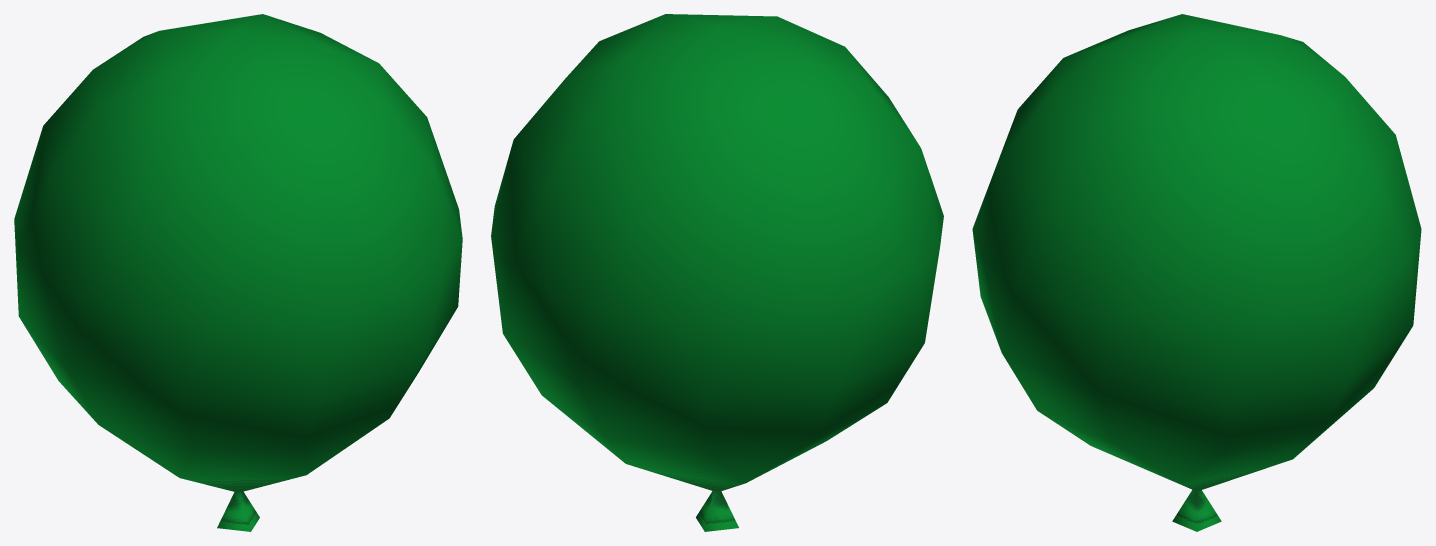
The model's file is cmn_obj_balloonG_SD.obj.
3 views of the same model, side by side, from view 1: azimuth 30°, elevation 25°; view 2: azimuth 150°, elevation 25°; view 3: azimuth 270°, elevation 25° (orthographic).
Visible parts, largest first — view 1: polygon0; view 2: polygon0; view 3: polygon0.
Boxes of the visible parts, x1,y1,x2,y2 form: polygon0: [14, 14, 462, 531]; polygon0: [491, 14, 943, 531]; polygon0: [972, 14, 1421, 531].
Bounding box in the file's own units: 10.03 × 12.07 × 10.03.
1 material, 1 textured.
